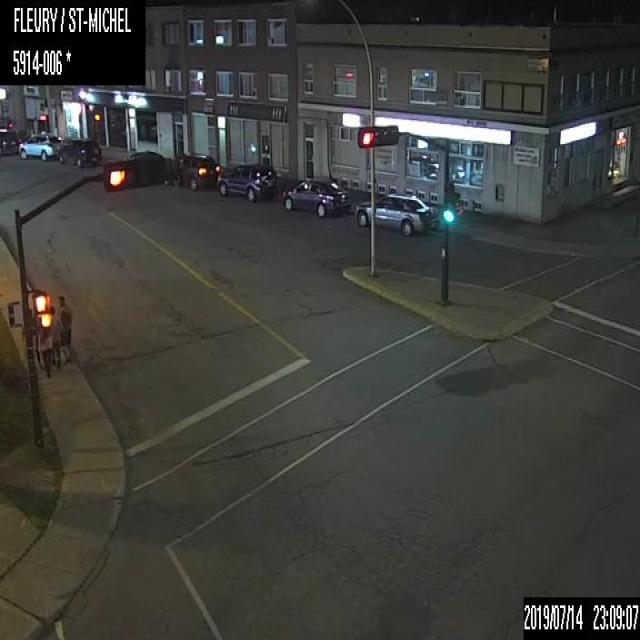pedestrian: (56, 292, 72, 364), (36, 322, 55, 376)
vehicle: (353, 192, 435, 236), (281, 176, 350, 219), (214, 160, 276, 202), (176, 149, 220, 194), (124, 149, 176, 187), (56, 136, 102, 166), (17, 130, 59, 159), (0, 128, 16, 152)
